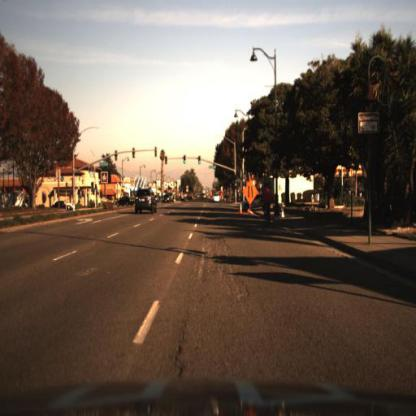biker: (259, 178, 274, 225), (262, 186, 276, 225)
car: (129, 187, 163, 221), (117, 194, 137, 211), (210, 190, 227, 207), (52, 201, 73, 213), (52, 201, 73, 211)
trafficLight-Green: (233, 172, 241, 187), (182, 153, 188, 169), (197, 155, 205, 167), (243, 165, 249, 181), (196, 157, 203, 170), (183, 156, 189, 169)
